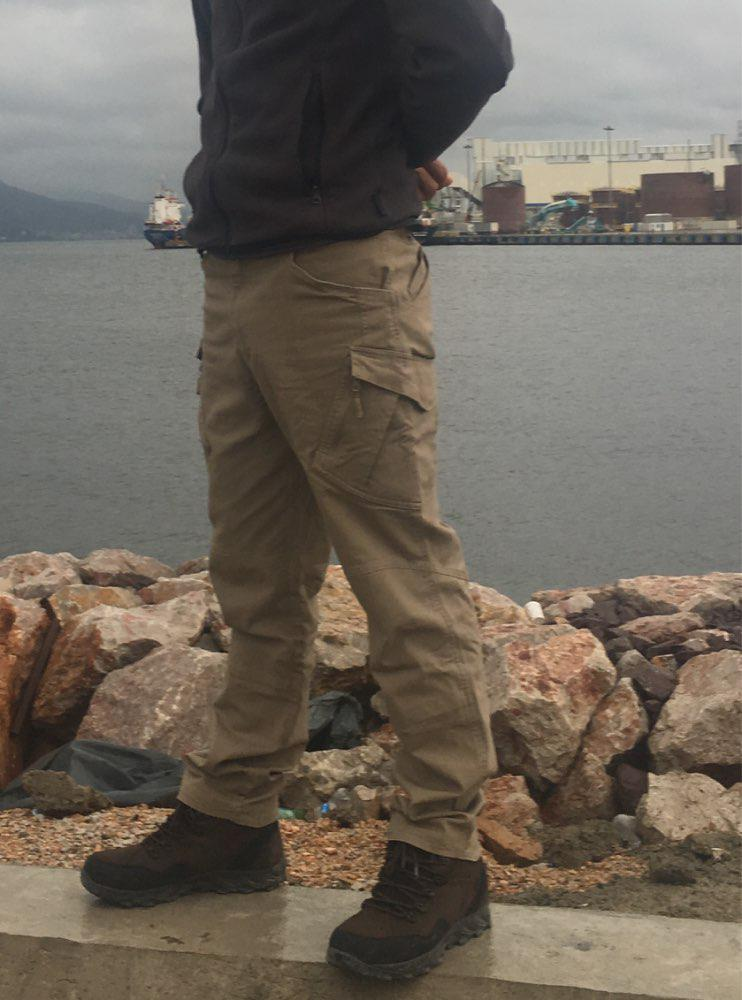pants: (185, 236, 491, 860)
